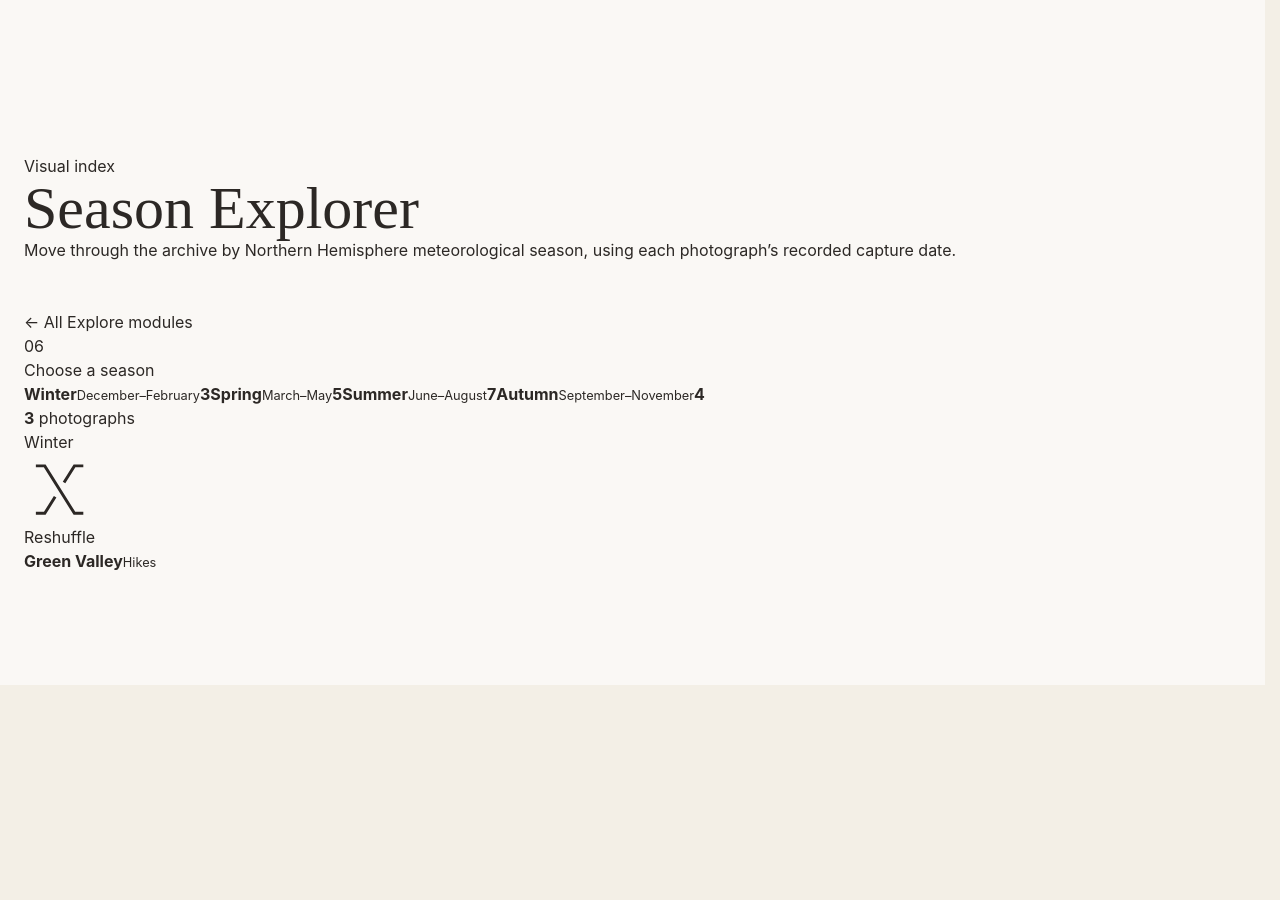
Test case: Explore › keeps a newer reshuffle when an older stale revalidation finishes late
This screenshot has width=1280, height=900.
Click the button with aria-label "Reshuffle Winter photographs" at (60, 502), box [24, 454, 95, 549]
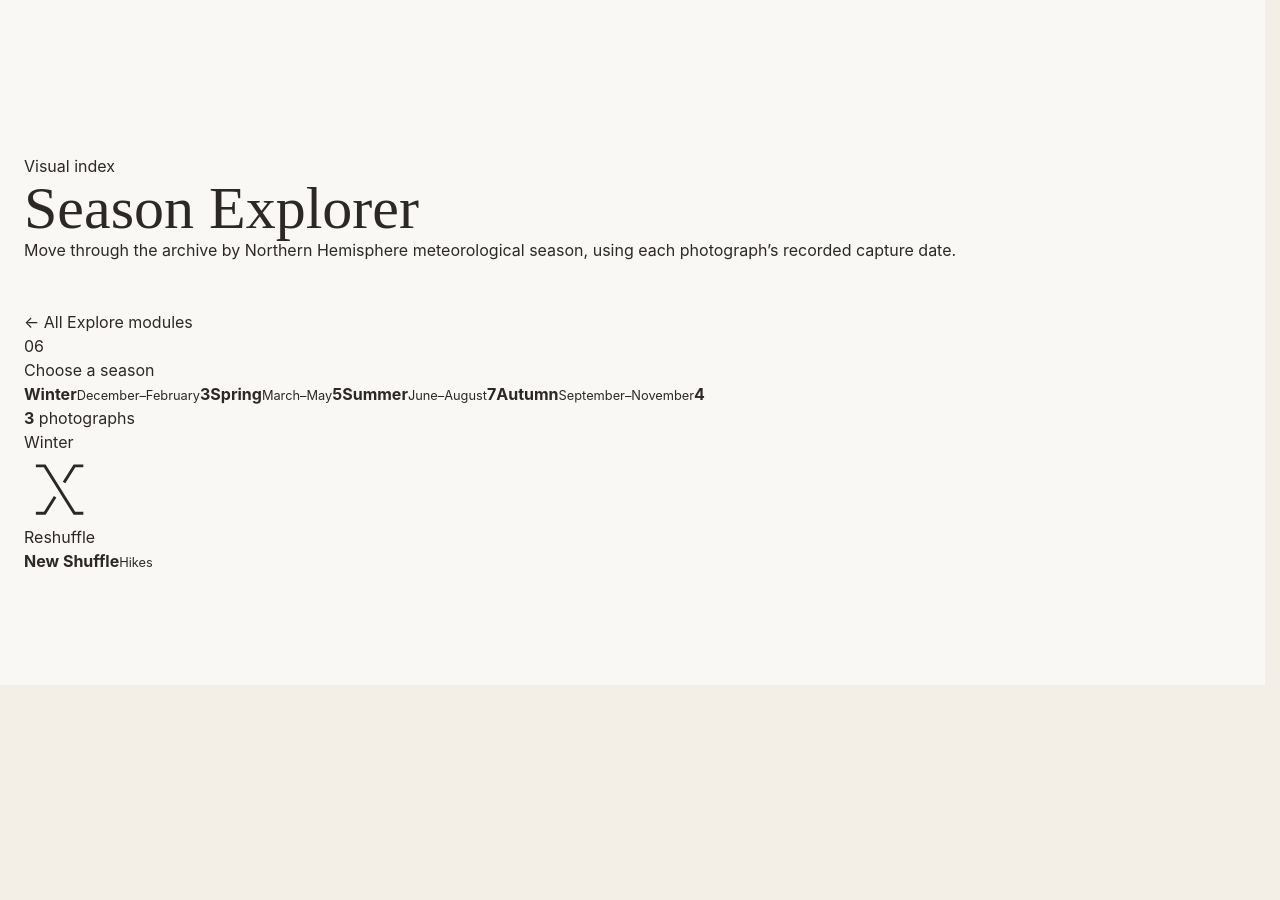
Expected: the text "New Shuffle" is shown, [24, 551, 119, 571]
